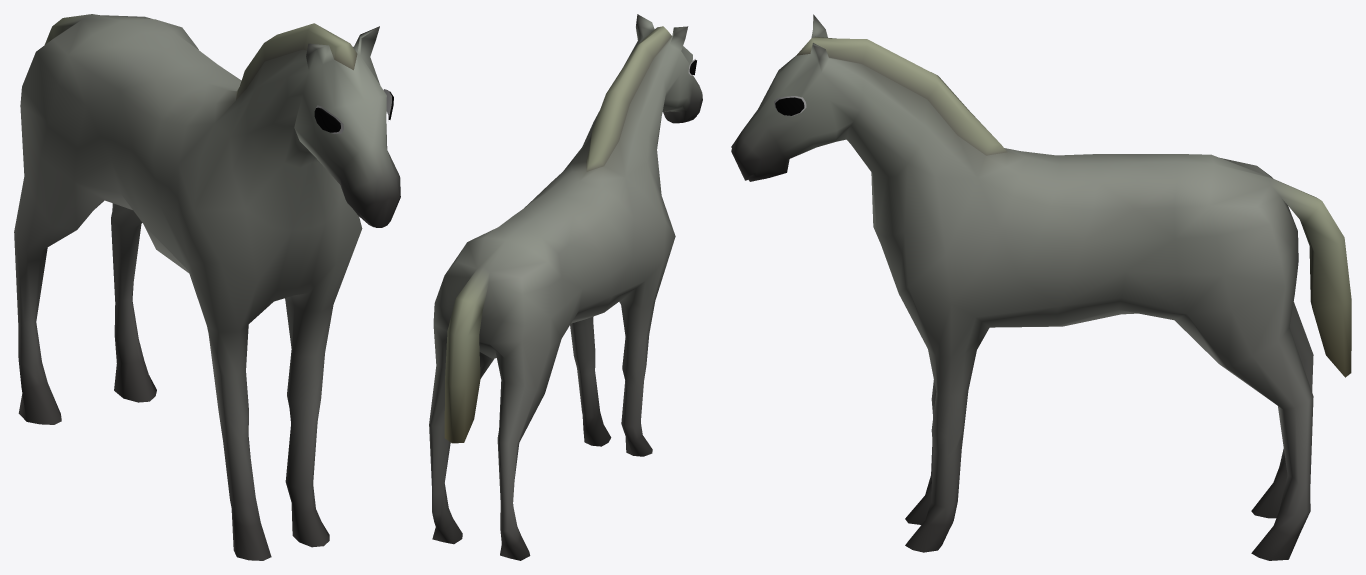
The model's file is animals-animals-grayhorse_v1.glb.
The picture shows the model from 3 angles, left to right: view 1: azimuth 30°, elevation 25°; view 2: azimuth 150°, elevation 25°; view 3: azimuth 270°, elevation 25°; orthographic projection. The views are drawn at different scales.
Visible parts, largest first — view 1: GrayHorse.001; view 2: GrayHorse.001; view 3: GrayHorse.001.
Part boxes in pixels (x1,y1,x2,y2): GrayHorse.001: [14, 14, 400, 560]; GrayHorse.001: [429, 14, 702, 560]; GrayHorse.001: [731, 14, 1351, 560].
Bounding box in the file's own units: 0.5605 × 1.91 × 2.14.
